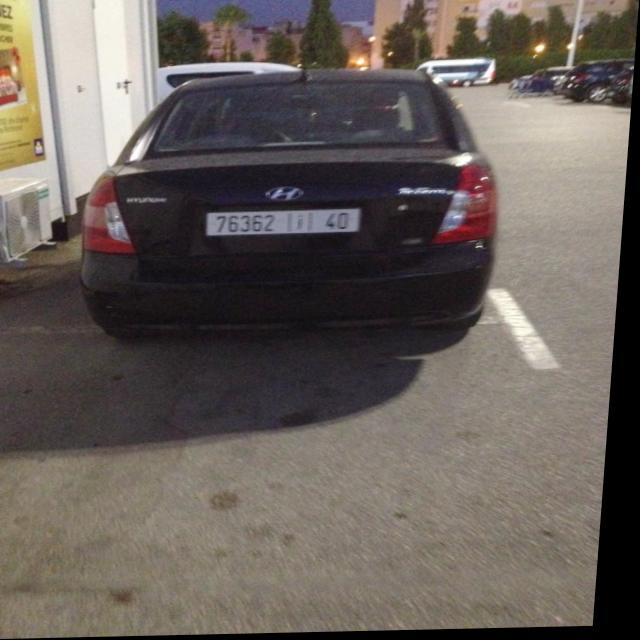License-Plate: (209, 211, 363, 237)
